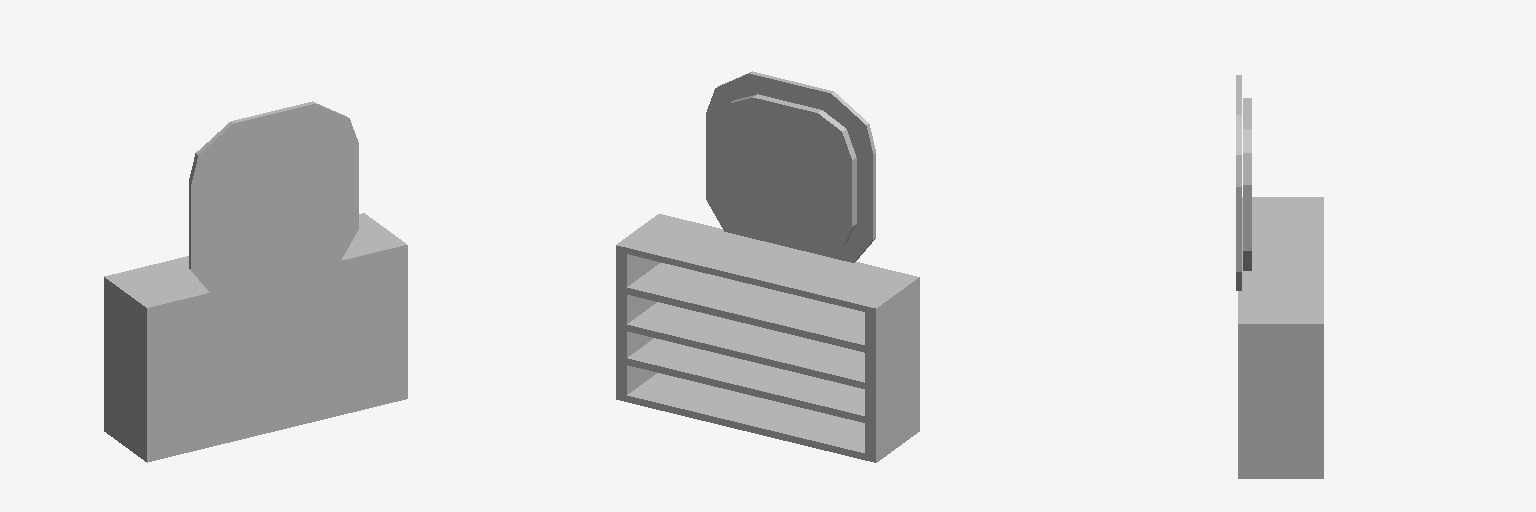
File: dressingTable_01.obj
3 renders of one model, left to right at view 1: azimuth 30°, elevation 25°; view 2: azimuth 150°, elevation 25°; view 3: azimuth 270°, elevation 25°, orthographic.
Visible parts, largest first — view 1: Table DressingTable, DressingTable MirrorBoard; view 2: Table DressingTable, DressingTable Mirror, DressingTable MirrorBoard; view 3: Table DressingTable, DressingTable Mirror, DressingTable MirrorBoard.
Part boxes in pixels (bbox=[...]): Table DressingTable: bbox=[104, 213, 407, 462]; DressingTable MirrorBoard: bbox=[189, 101, 358, 293]; Table DressingTable: bbox=[616, 214, 919, 462]; DressingTable Mirror: bbox=[719, 94, 856, 252]; DressingTable MirrorBoard: bbox=[706, 71, 875, 262]; Table DressingTable: bbox=[1238, 197, 1323, 478]; DressingTable Mirror: bbox=[1243, 98, 1251, 270]; DressingTable MirrorBoard: bbox=[1236, 75, 1241, 290].
Bounding box in the file's own units: 5.58 × 6.52 × 1.63.